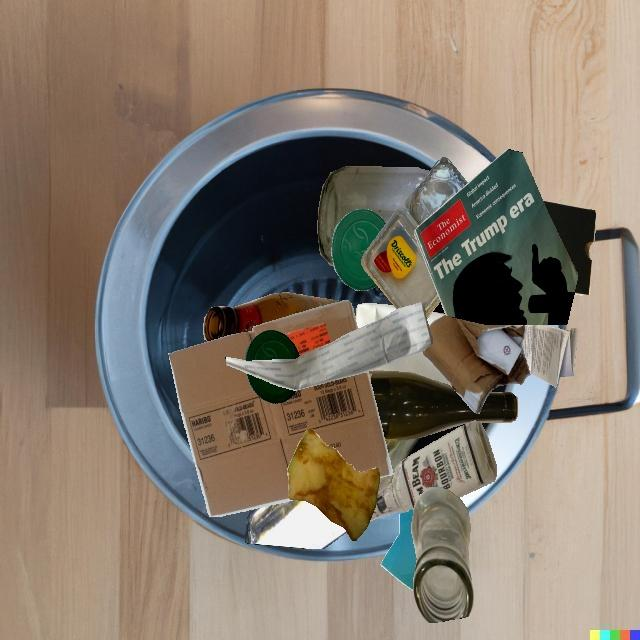biowaste: (288, 429, 380, 541)
cardboard: (169, 300, 393, 517), (422, 315, 530, 414), (543, 201, 597, 295)
glass: (369, 421, 497, 522), (317, 166, 430, 266), (368, 371, 517, 439), (411, 486, 474, 623), (203, 292, 341, 342), (245, 500, 347, 549)
paper: (414, 149, 578, 325), (225, 302, 432, 391), (513, 325, 578, 387), (365, 308, 433, 367), (381, 509, 417, 591), (380, 351, 451, 386)
plastic: (361, 157, 468, 319), (331, 209, 386, 291), (245, 330, 300, 361), (246, 373, 297, 404)
